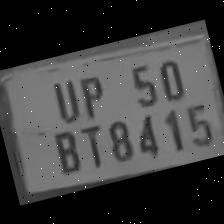0: (148, 50, 188, 104)
1: (154, 104, 188, 156)
4: (126, 108, 162, 160)
5: (176, 95, 216, 151), (122, 58, 162, 110)
8: (100, 114, 136, 164)
B: (45, 124, 84, 176)
P: (72, 68, 110, 120)
T: (74, 121, 109, 171)
U: (43, 72, 82, 124)
